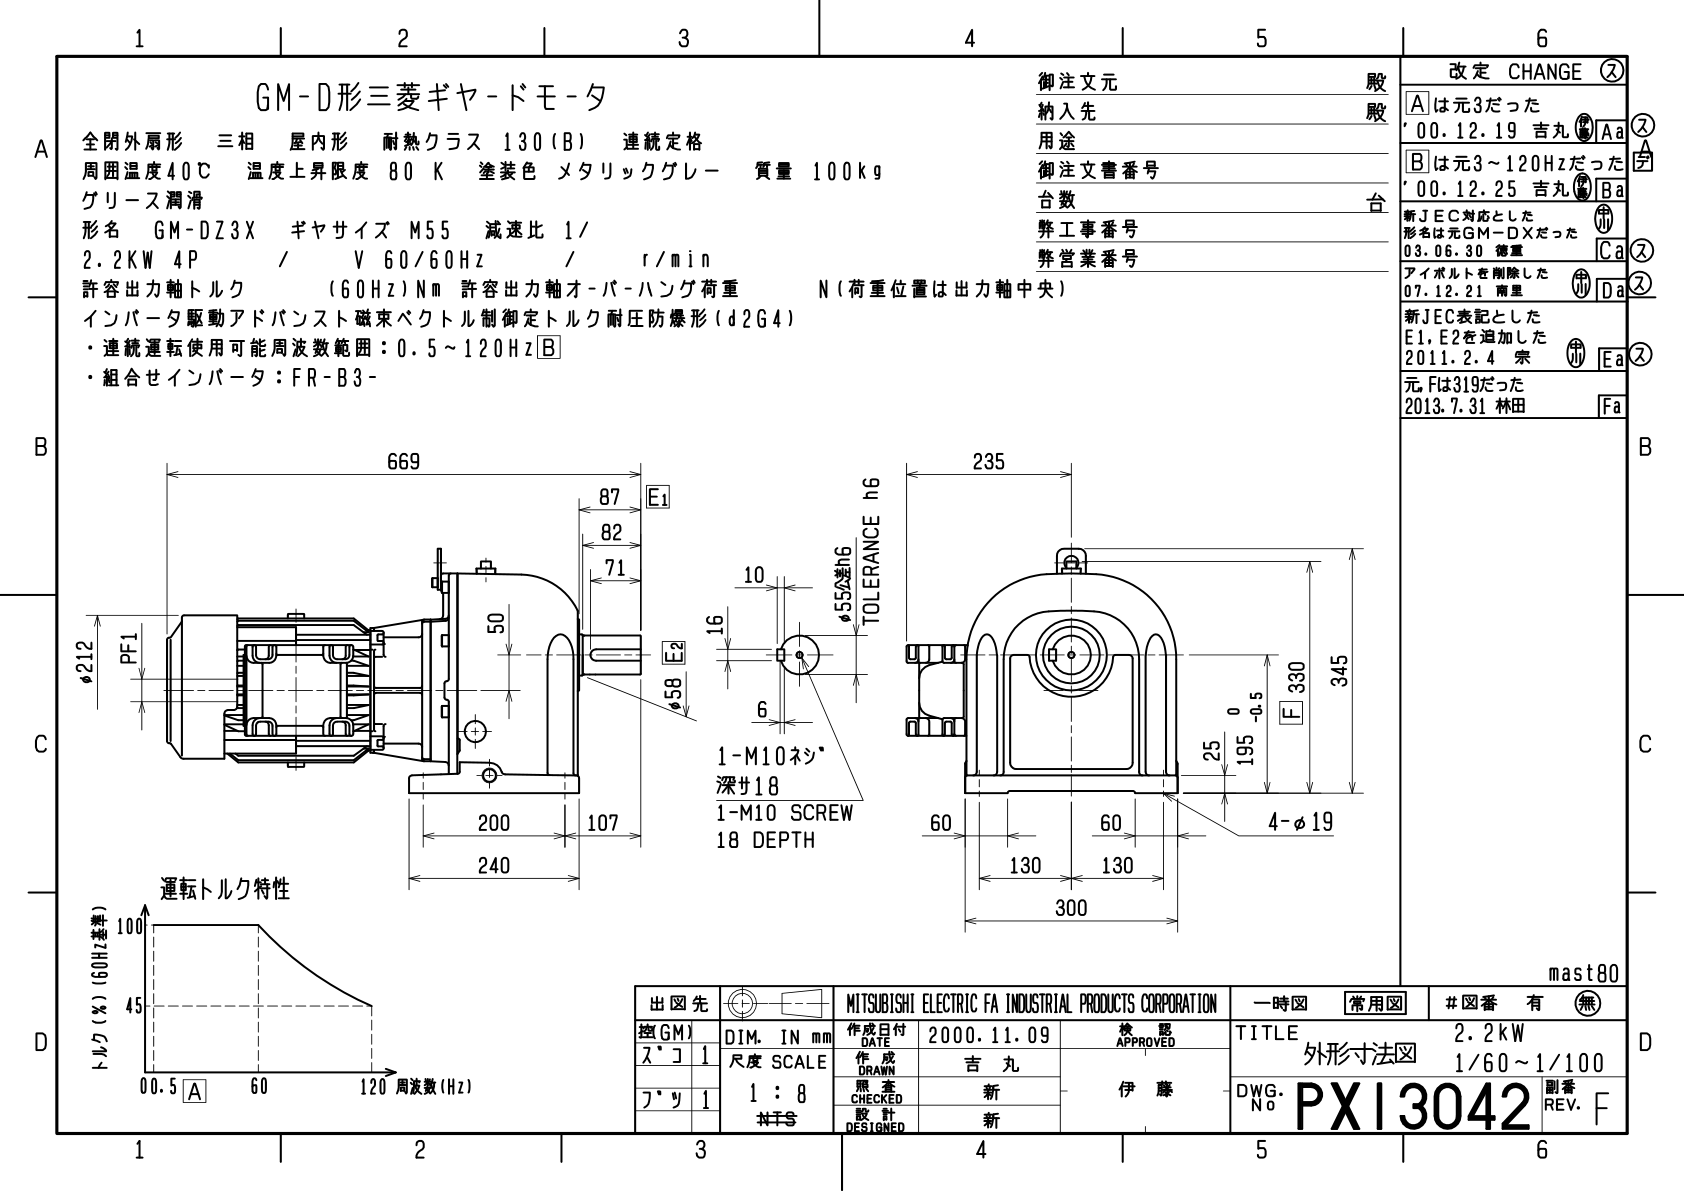GM_D_制御屋内_三相_脚: (63, 429, 1386, 967)
